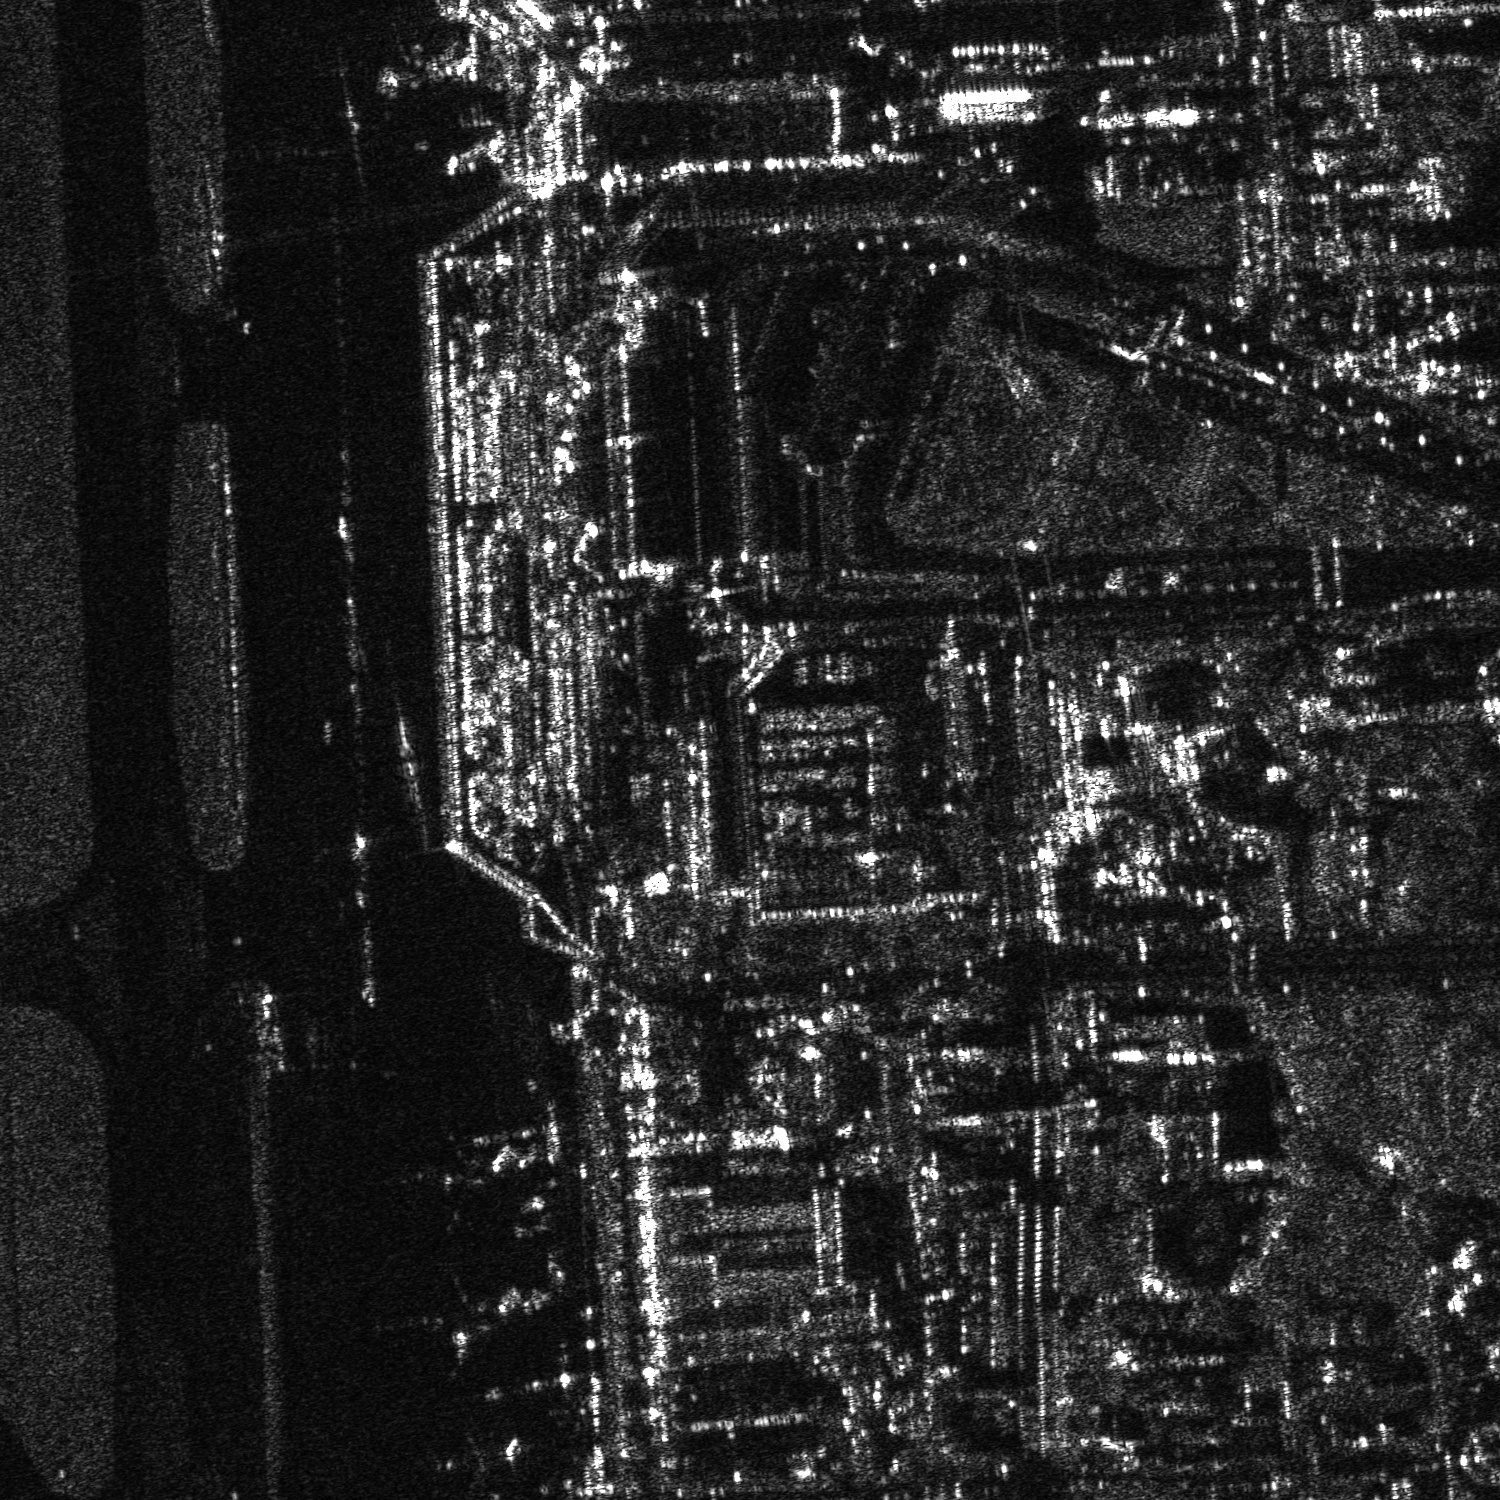ARJ21: (412, 1261, 573, 1370)
other: (444, 1091, 576, 1216), (434, 1431, 521, 1499)
